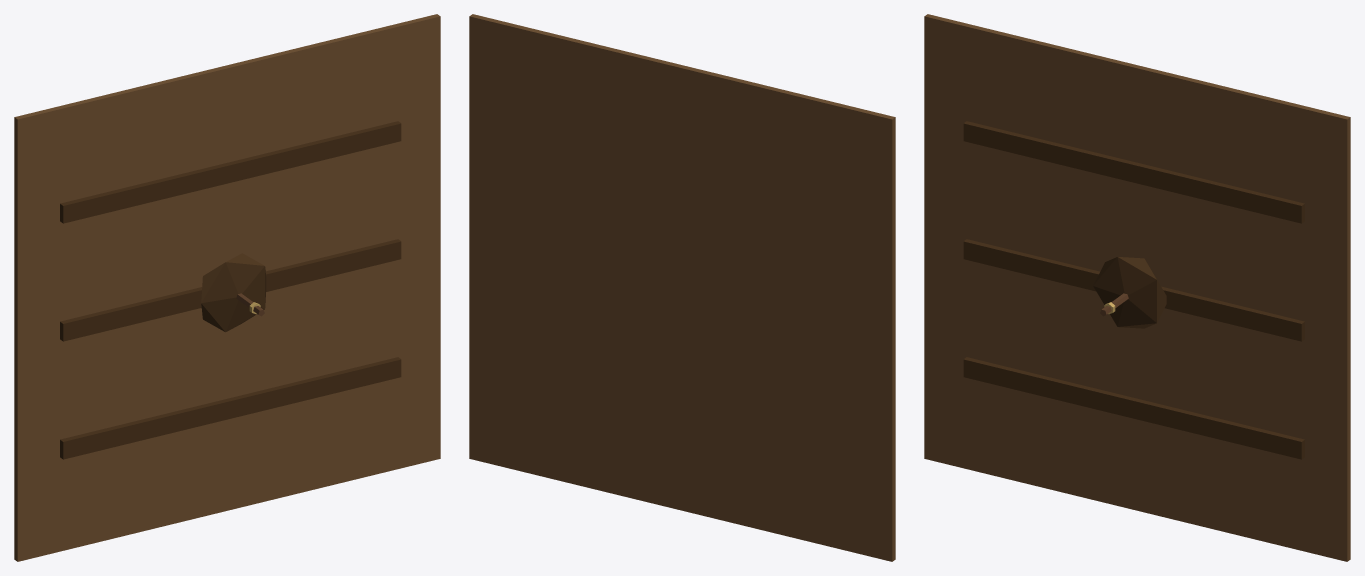
The model's file is patch_planted.obj.
The picture shows the model from 3 angles, left to right: view 1: azimuth 30°, elevation 25°; view 2: azimuth 150°, elevation 25°; view 3: azimuth 330°, elevation 25°; orthographic projection.
Visible parts, largest first — view 1: patch_planted; view 2: patch_planted; view 3: patch_planted.
Boxes of the visible parts, x1=… form: patch_planted: x1=14, y1=14, x2=440, y2=561; patch_planted: x1=469, y1=14, x2=895, y2=561; patch_planted: x1=924, y1=14, x2=1350, y2=561.
Size of the model in its own units: 1.5 by 1.5 by 0.22.
